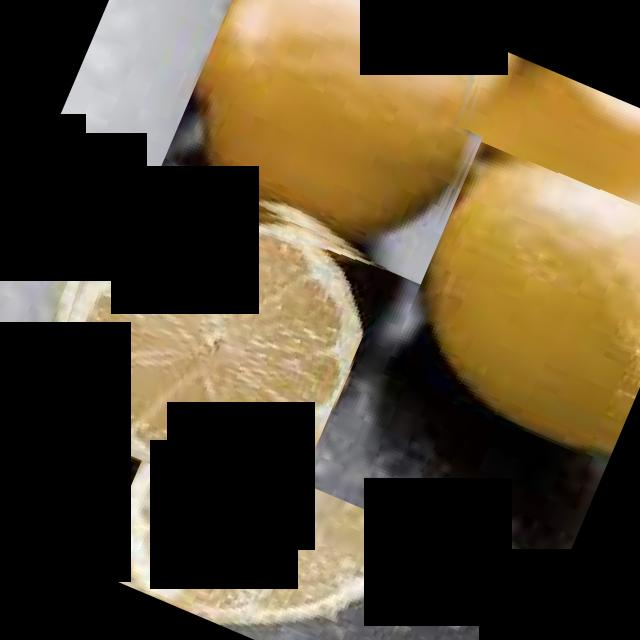lemon: (12, 144, 394, 520), (157, 0, 516, 284), (384, 116, 640, 462), (93, 422, 431, 640), (456, 45, 640, 227), (257, 0, 497, 82)
